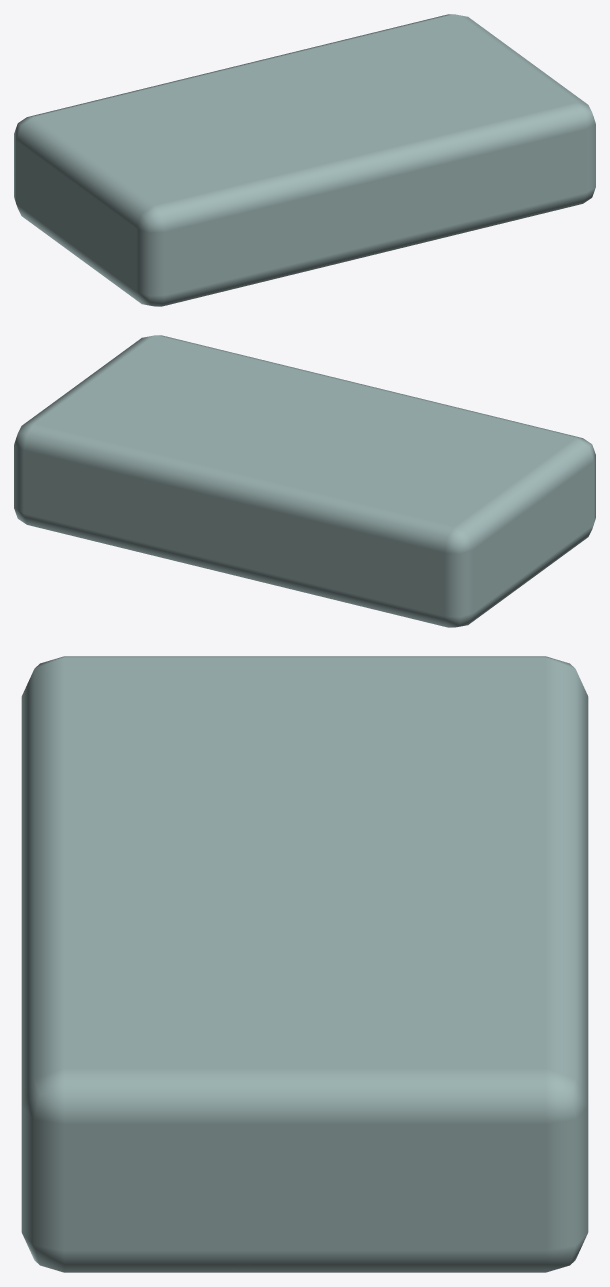
Rendered from bar2notex.fbx.
The picture shows the model from 3 angles, top to bottom: view 1: azimuth 30°, elevation 25°; view 2: azimuth 150°, elevation 25°; view 3: azimuth 270°, elevation 25°; orthographic projection. The views are drawn at different scales.
Visible parts, largest first — view 1: bar2notex; view 2: bar2notex; view 3: bar2notex.
Part boxes in pixels (<box>): bar2notex: <box>14,14,595,306</box>; bar2notex: <box>14,335,595,627</box>; bar2notex: <box>21,656,588,1272</box>.
Size of the model in its own units: 0.8922 by 0.1894 by 0.4783.
